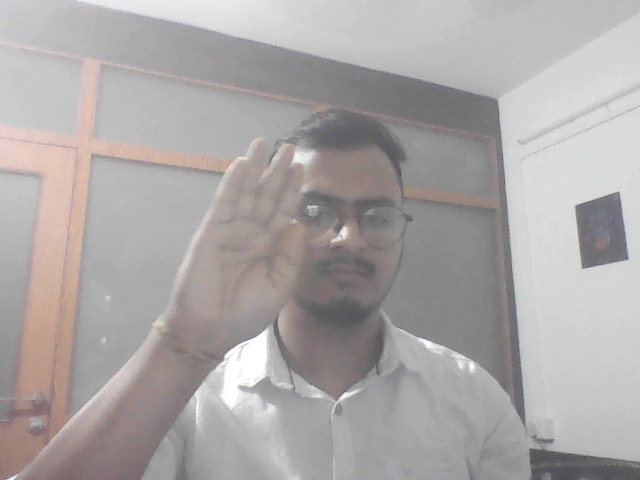Hello: (158, 123, 310, 347)
